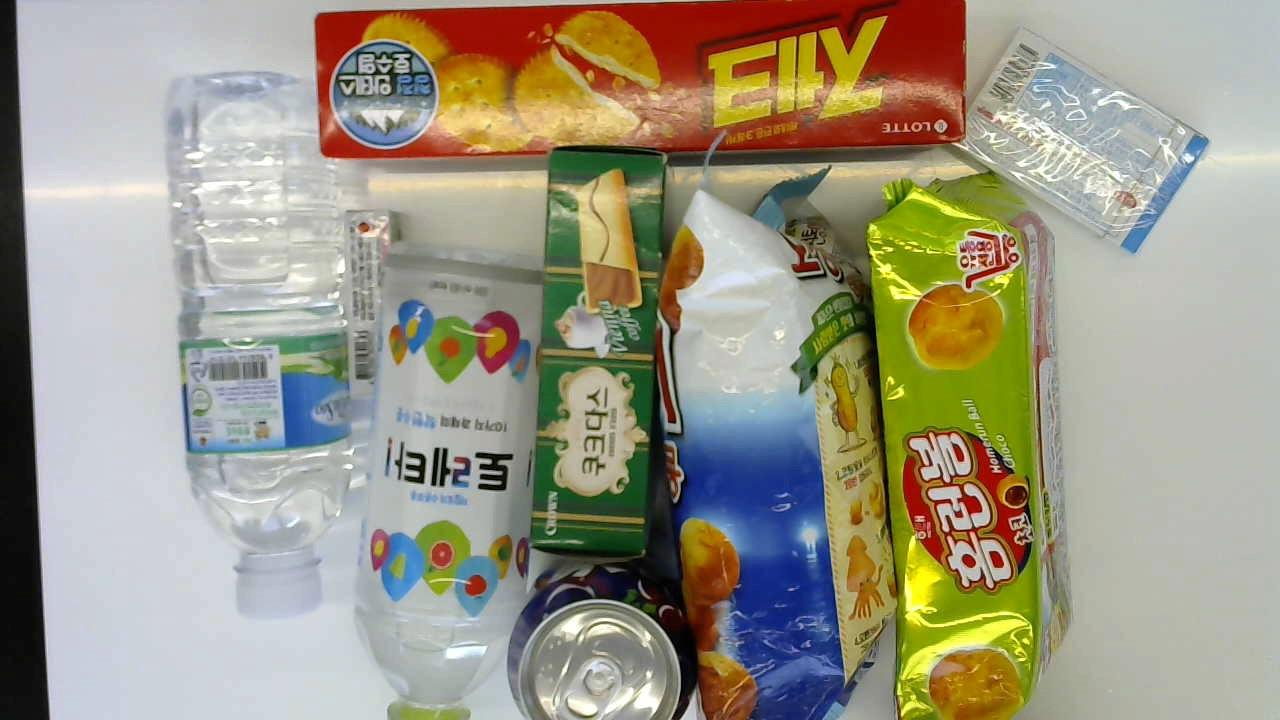ID_gum: (953, 30, 1209, 255)
couque_coffee: (531, 141, 676, 564)
homerunball: (871, 169, 1072, 719)
samdasu: (164, 71, 359, 619)
spearmint: (348, 208, 400, 385)
squid_peanut: (657, 181, 898, 720)
toreta: (366, 238, 539, 720)
welchs: (506, 561, 695, 719)
zec: (313, 5, 965, 155)
